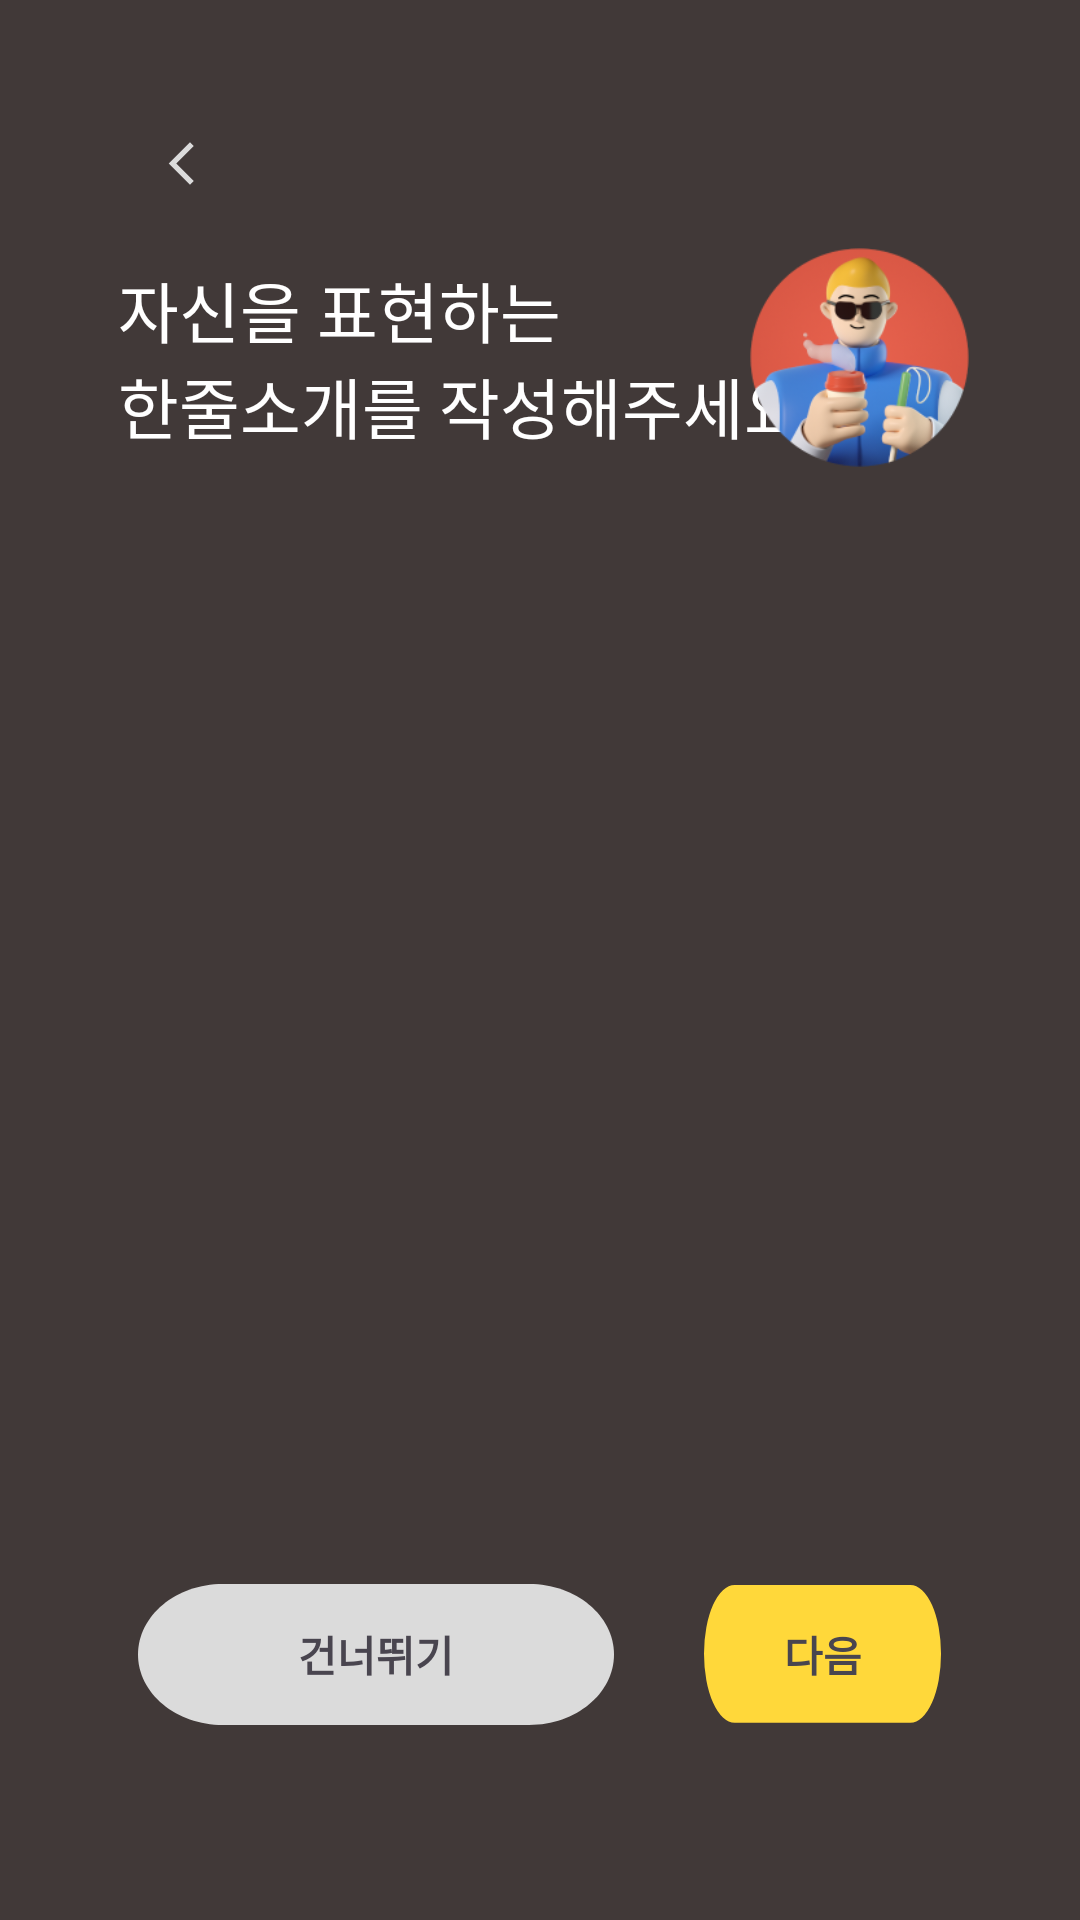

Screen size 1080w x 1920h. Icon name, then its center in pixels as (x=x, y=y):
arrow left: (x=181, y=163)
user: (x=859, y=357)
